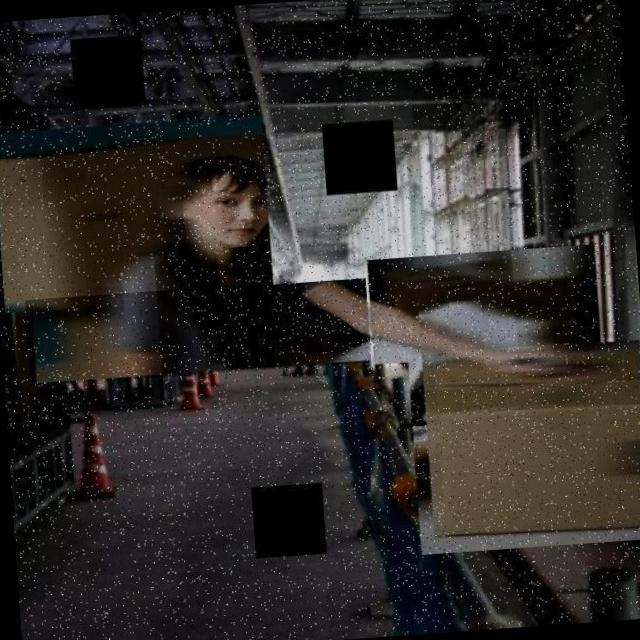box: (0, 112, 277, 317), (402, 337, 640, 556), (24, 276, 374, 386), (362, 242, 605, 368)
